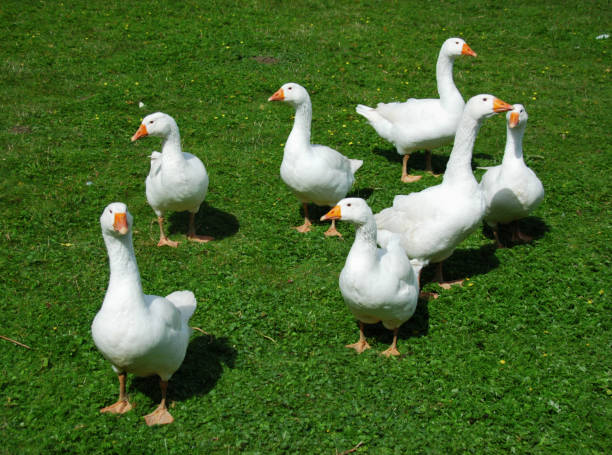goose: (86, 200, 201, 436), (375, 91, 512, 261), (359, 32, 484, 182), (326, 192, 426, 362), (266, 77, 357, 236), (129, 111, 219, 248), (482, 100, 552, 233)
